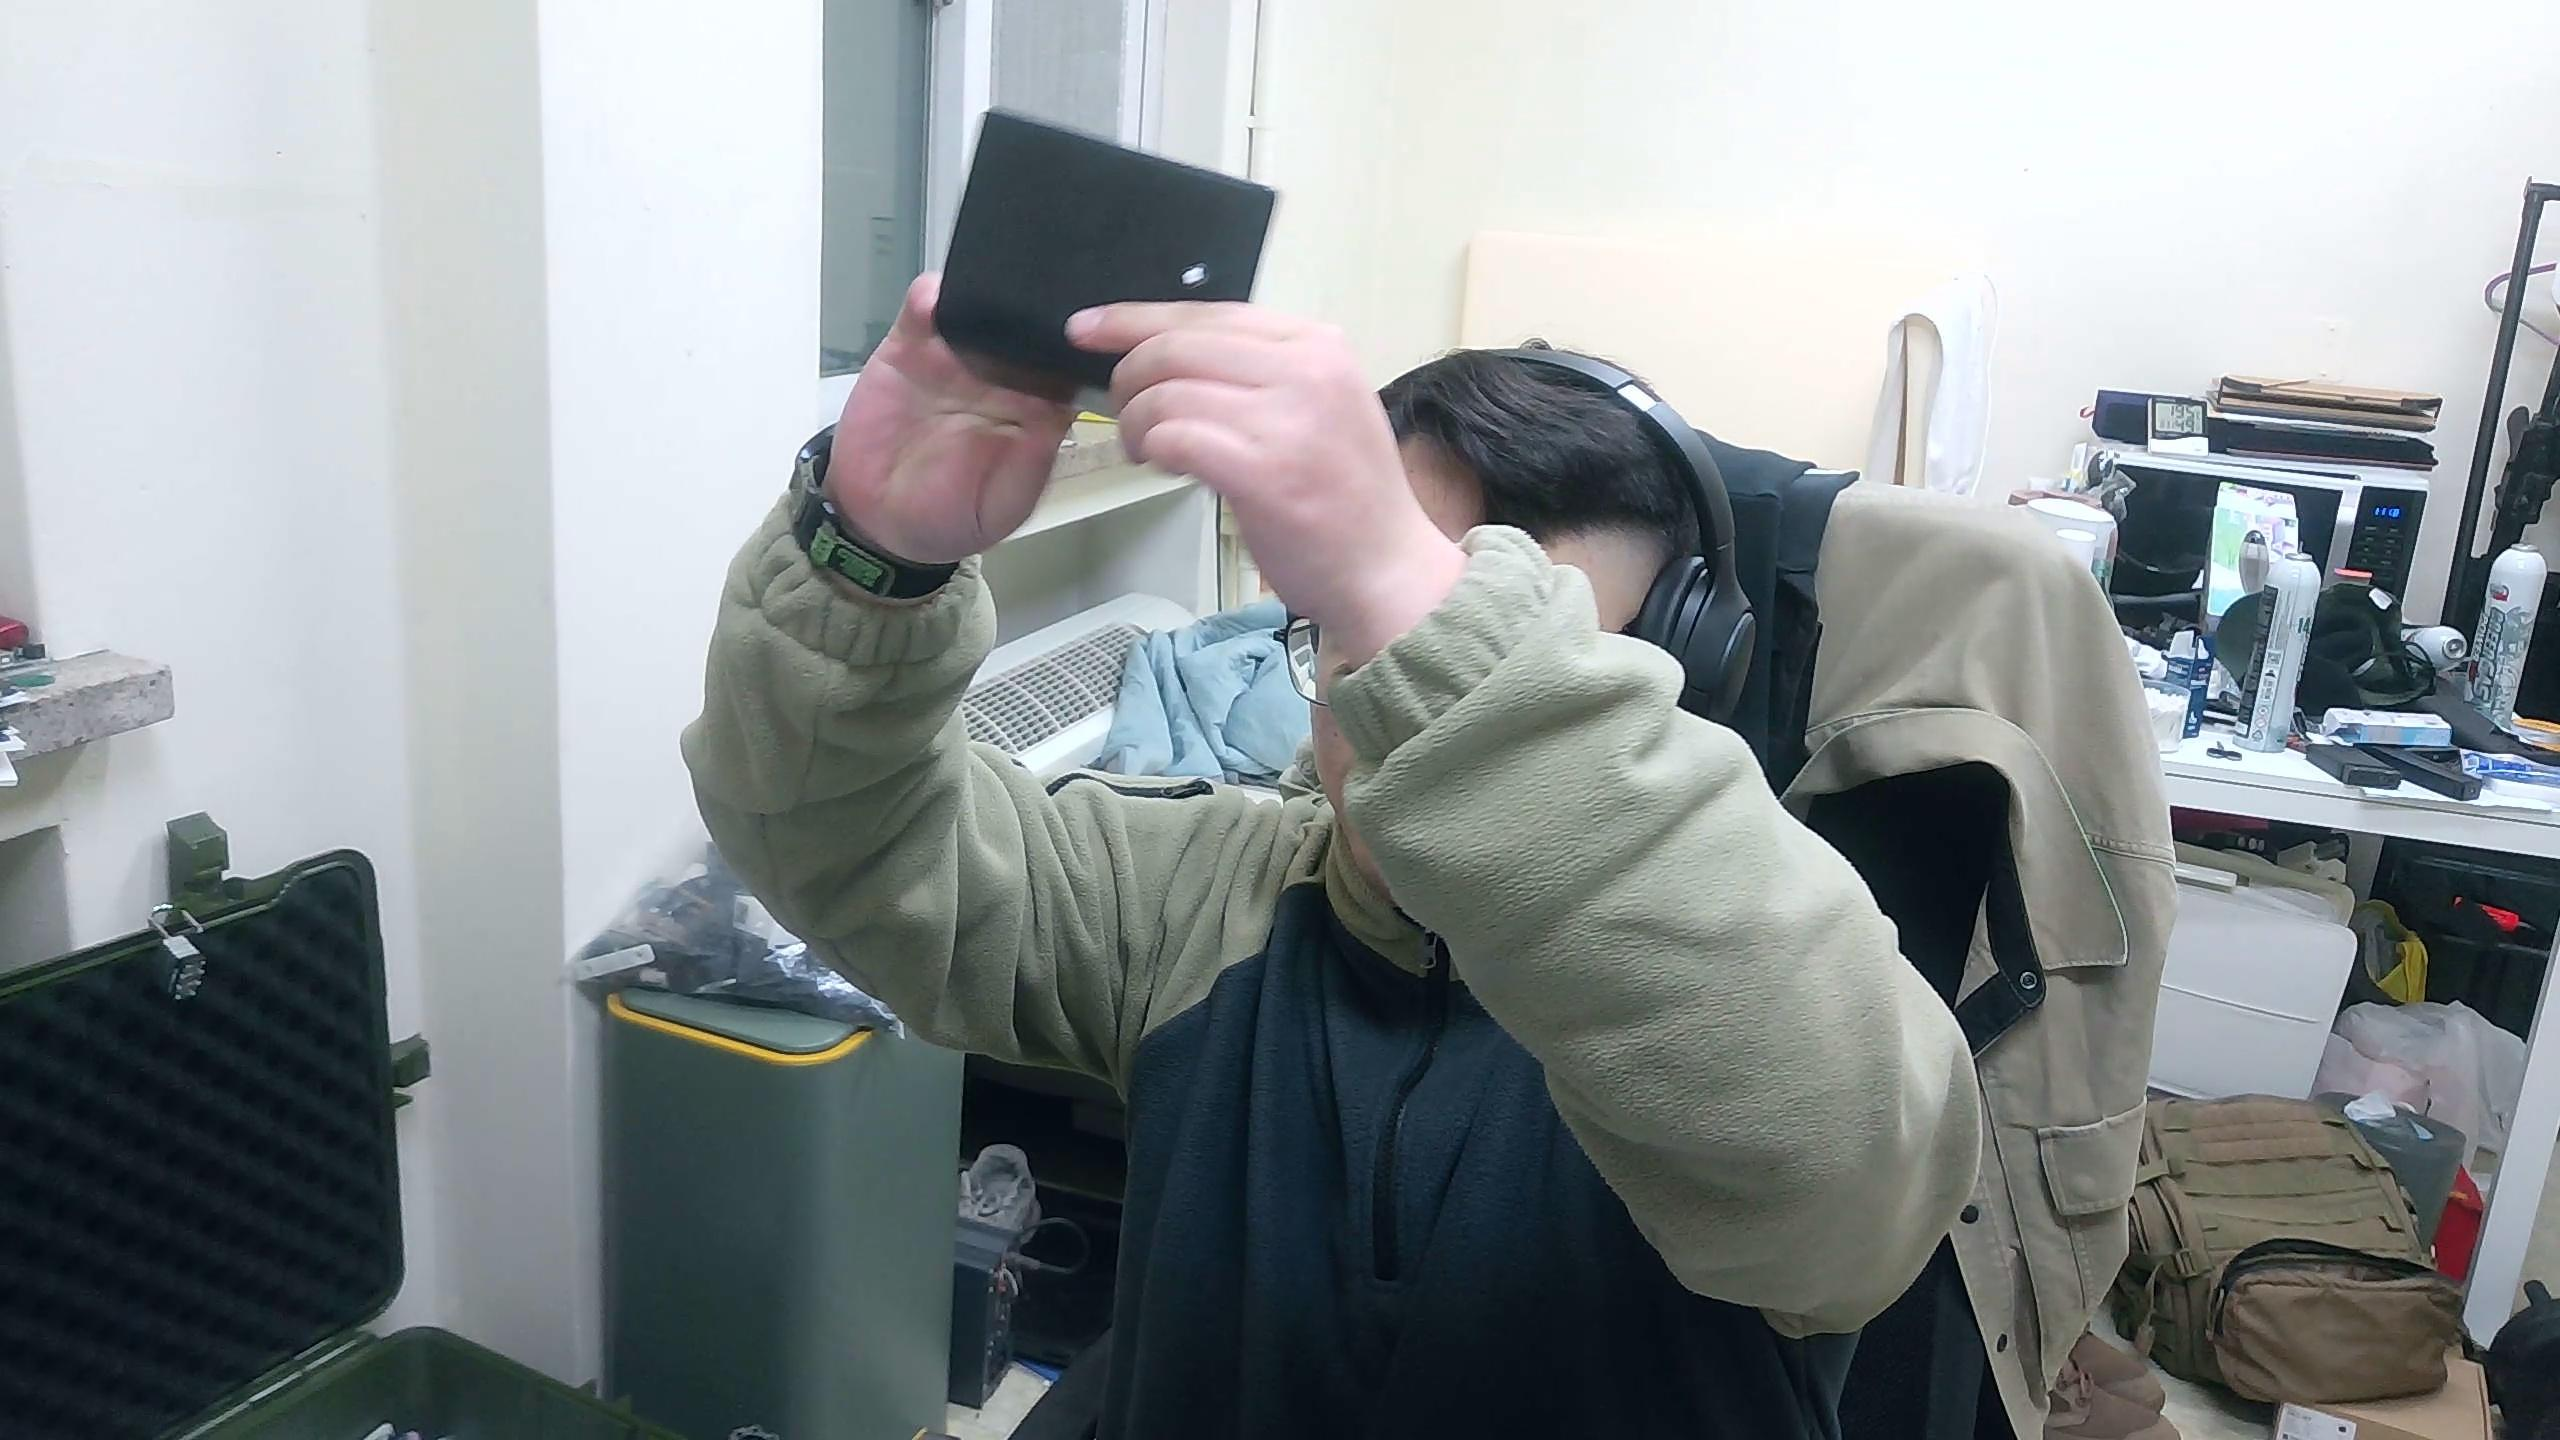earphone: (934, 104, 1284, 406)
